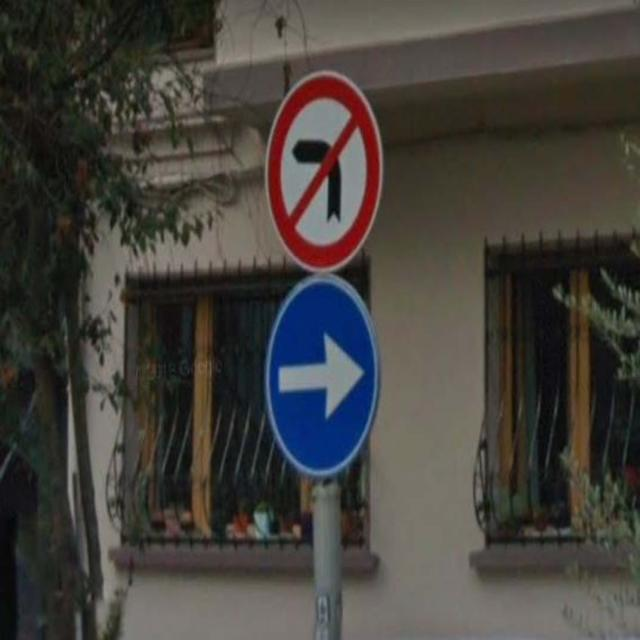sag: (266, 278, 375, 475)
soladonulmez: (268, 66, 370, 274)
